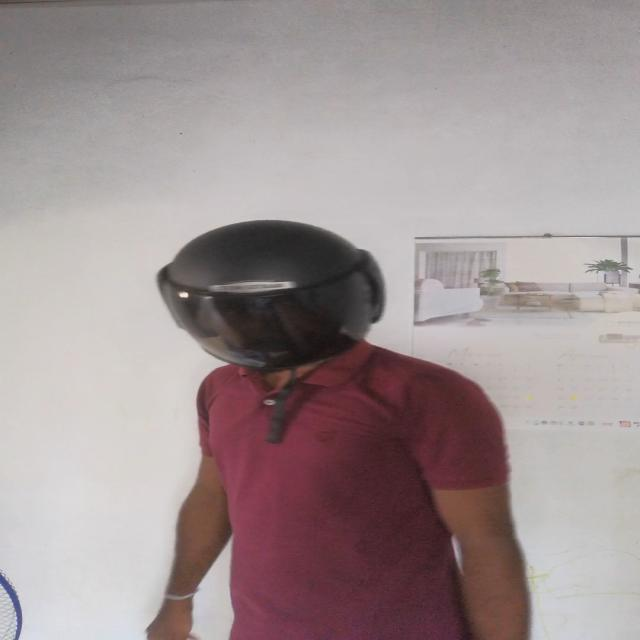Helmet_Wearer: (114, 216, 399, 396)
